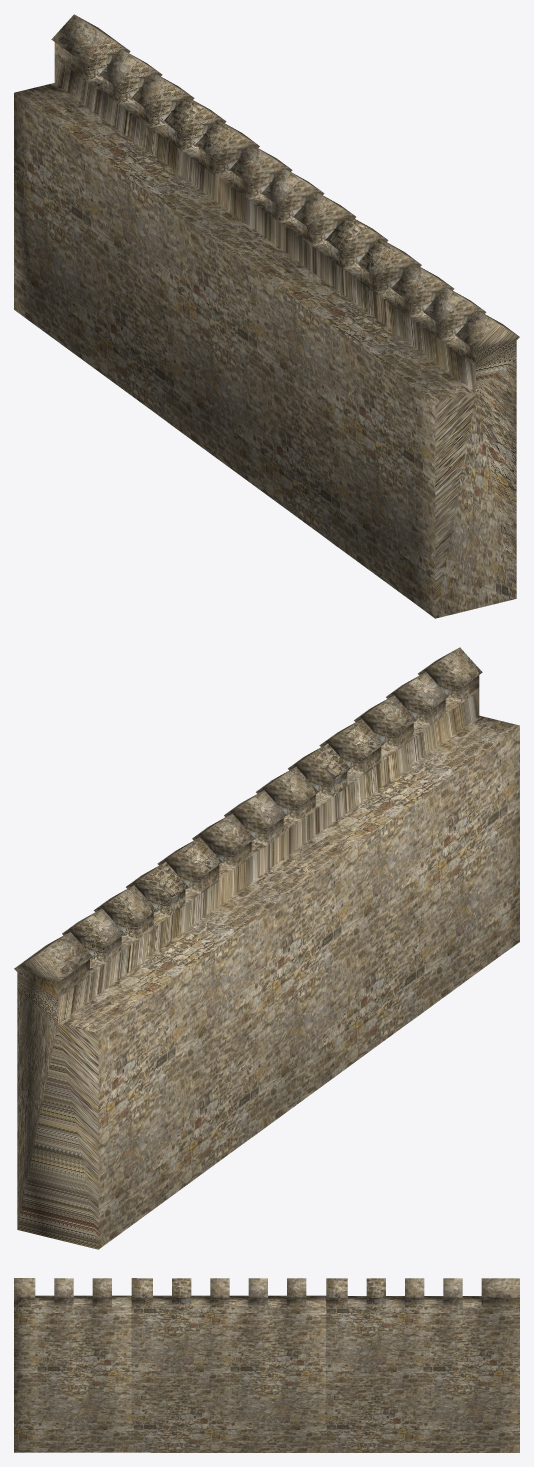
The model's file is wall.dae.
The picture shows the model from 3 angles, top to bottom: view 1: azimuth 30°, elevation 25°; view 2: azimuth 150°, elevation 25°; view 3: azimuth 270°, elevation 25°; orthographic projection. The views are drawn at different scales.
Parts seen in each view (by area): view 1: wall; view 2: wall; view 3: wall.
Part boxes in pixels (left/top/right/bottom): wall: left=14, top=14, right=519, bottom=618; wall: left=14, top=647, right=519, bottom=1249; wall: left=14, top=1278, right=519, bottom=1452.
Size of the model in its own units: 0.968 by 8.28 by 3.04.
Materials: 1 (1 with a texture image).
